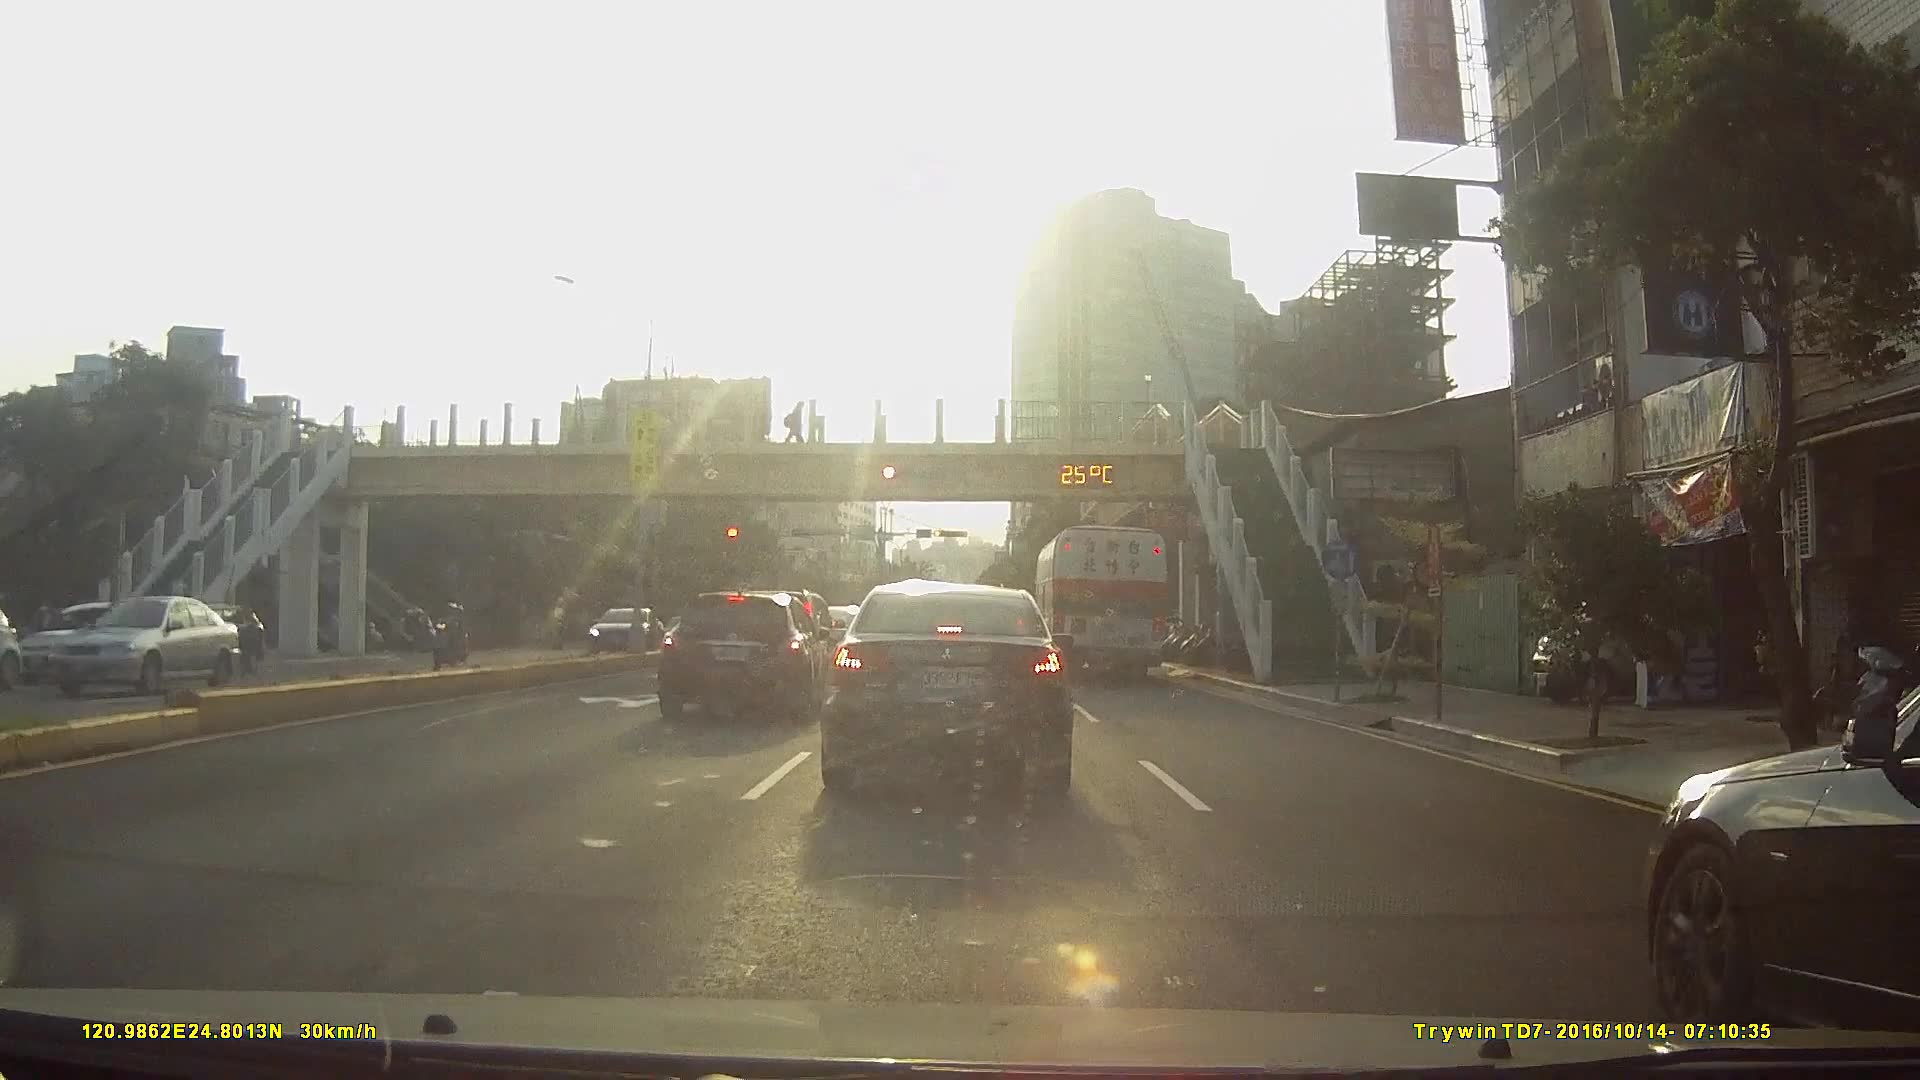pedestrian: (784, 401, 805, 447)
rider: (431, 597, 473, 668)
vehicle: (1628, 654, 1920, 1050), (817, 580, 1076, 798), (650, 585, 834, 723), (22, 594, 225, 700), (1035, 521, 1170, 680), (20, 598, 166, 683), (157, 600, 262, 673), (579, 604, 661, 655)
